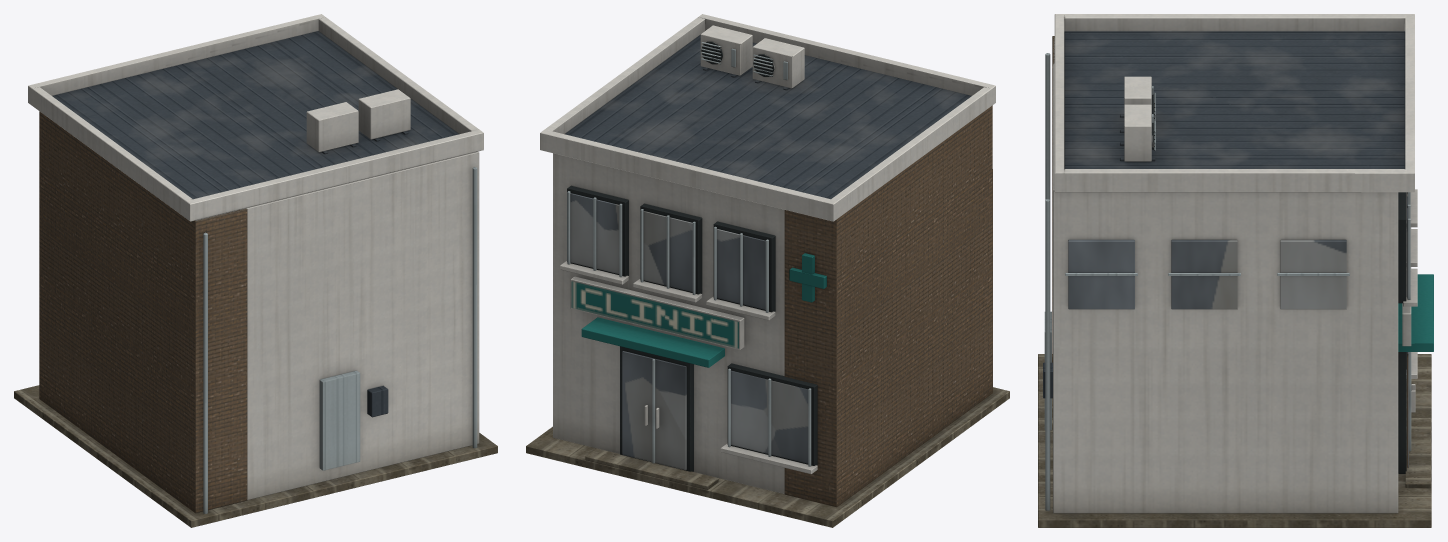
The model's file is public_001.obj.
The picture shows the model from 3 angles, left to right: view 1: azimuth 30°, elevation 25°; view 2: azimuth 150°, elevation 25°; view 3: azimuth 270°, elevation 25°; orthographic projection. The views are drawn at different scales.
Parts seen in each view (by area): view 1: public_001; view 2: public_001; view 3: public_001.
Boxes of the visible parts, box(x1,y1,x2,y2) form: public_001: box(14, 14, 497, 527); public_001: box(526, 14, 1009, 527); public_001: box(1038, 14, 1433, 527).
Size of the model in its own units: 6.5 by 6.85 by 6.54.
Materials: 1 (1 with a texture image).
